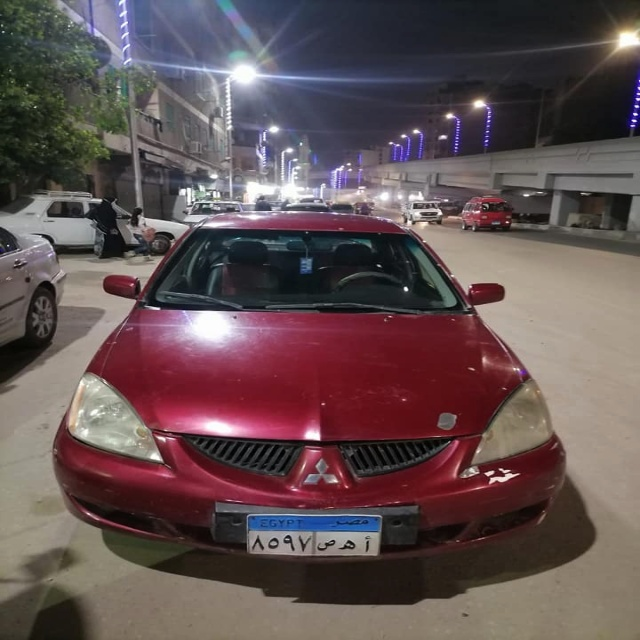License Plate: (244, 513, 385, 558)
